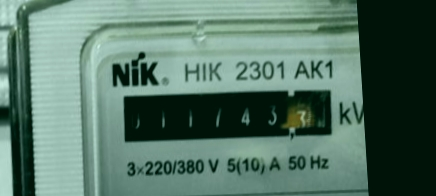0: (128, 104, 143, 131)
1: (155, 102, 170, 131), (183, 101, 197, 130)
3: (264, 100, 279, 128), (293, 108, 310, 130)
4: (238, 103, 253, 129)
7: (210, 102, 225, 128)
screen: (114, 77, 343, 155)
